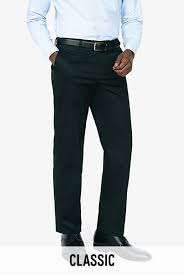F_belt: (50, 30, 128, 57)
F_dress pants: (45, 51, 138, 236)
